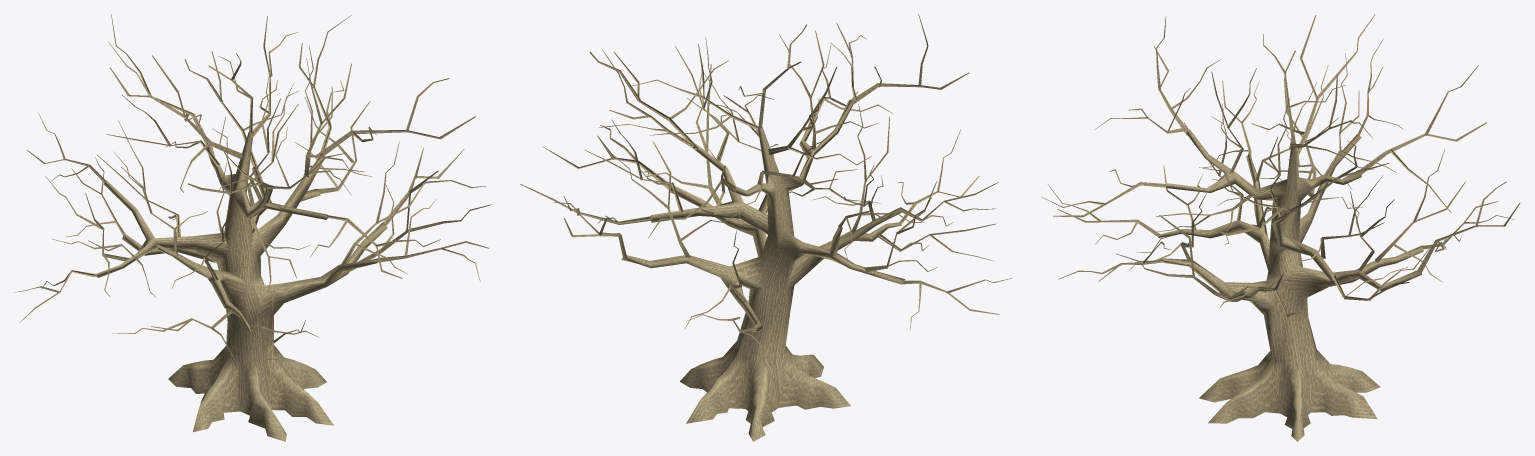
File: INST_HTOWN_TREEB_LOD1.fbx
The picture shows the model from 3 angles, left to right: view 1: azimuth 30°, elevation 25°; view 2: azimuth 150°, elevation 25°; view 3: azimuth 270°, elevation 25°; orthographic projection. The views are drawn at different scales.
Visible parts, largest first — view 1: INST_HTOWN_TREEB_LOD1; view 2: INST_HTOWN_TREEB_LOD1; view 3: INST_HTOWN_TREEB_LOD1.
Boxes of the visible parts, bbox=[...] form: INST_HTOWN_TREEB_LOD1: bbox=[15, 14, 491, 441]; INST_HTOWN_TREEB_LOD1: bbox=[520, 14, 1012, 441]; INST_HTOWN_TREEB_LOD1: bbox=[1041, 14, 1520, 441].
Bounding box in the file's own units: 118247 × 90744 × 110502.
6 materials, 6 textured.
